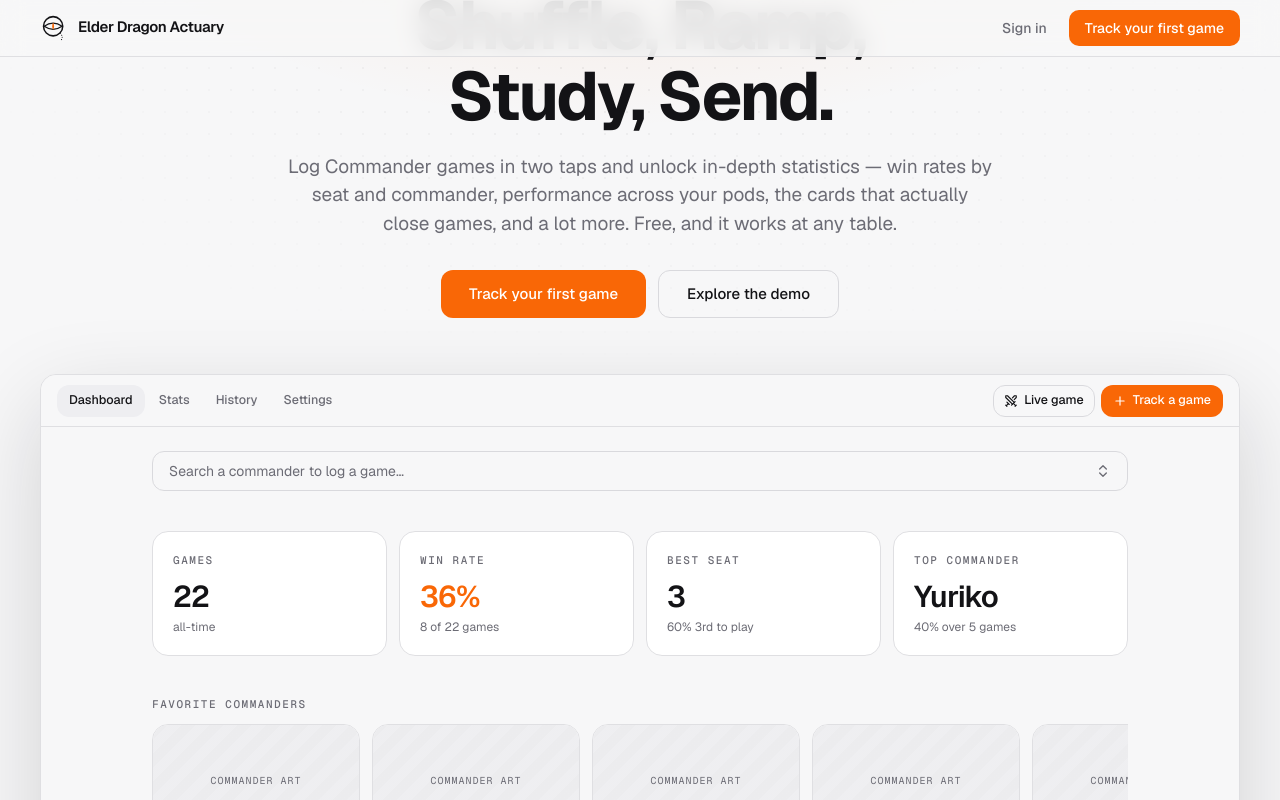
LoggedOutHomePage simulation › opens the real Track-a-game flow
(page scrolled)
Click the button "Track a game": (1162,401) [1101,385,1223,417]
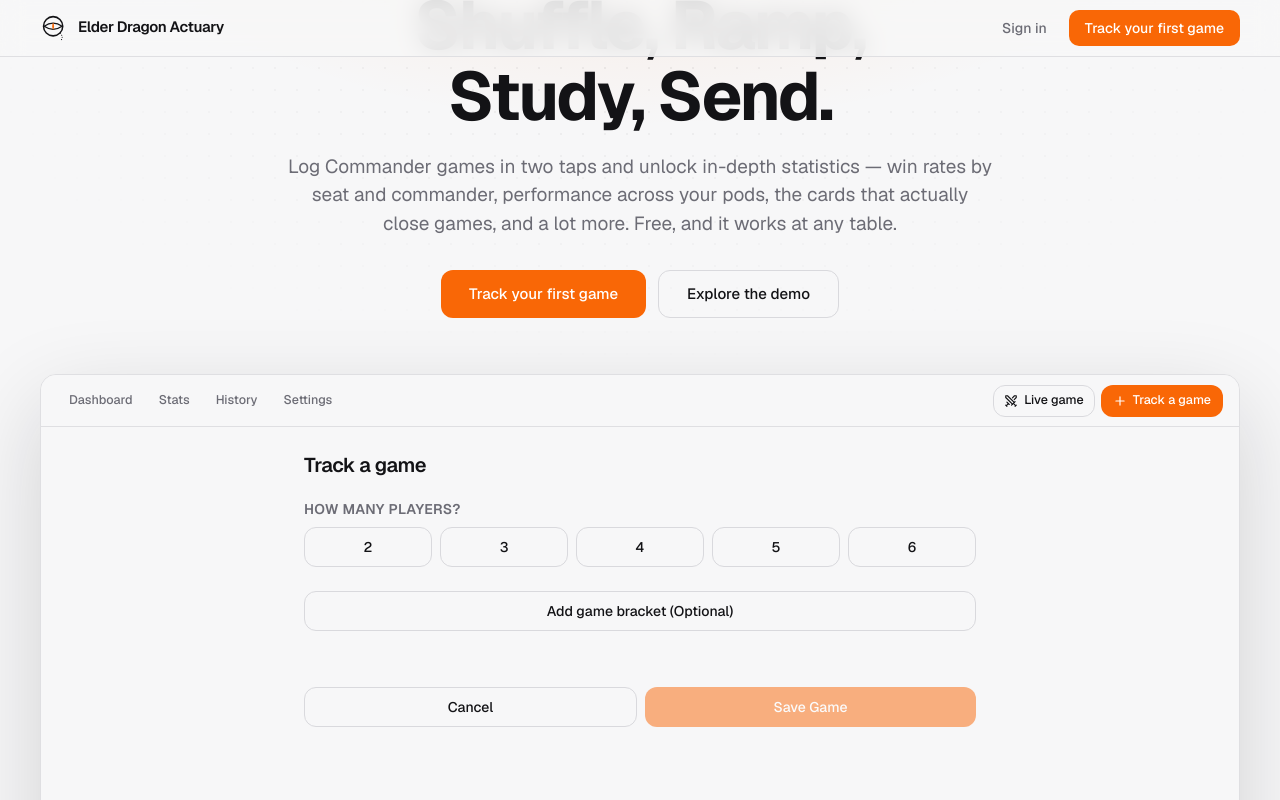
Expected: the text "How many players?" is shown, [304,500,461,518]
Expected: the text "Save Game" is shown, [645,687,976,727]
